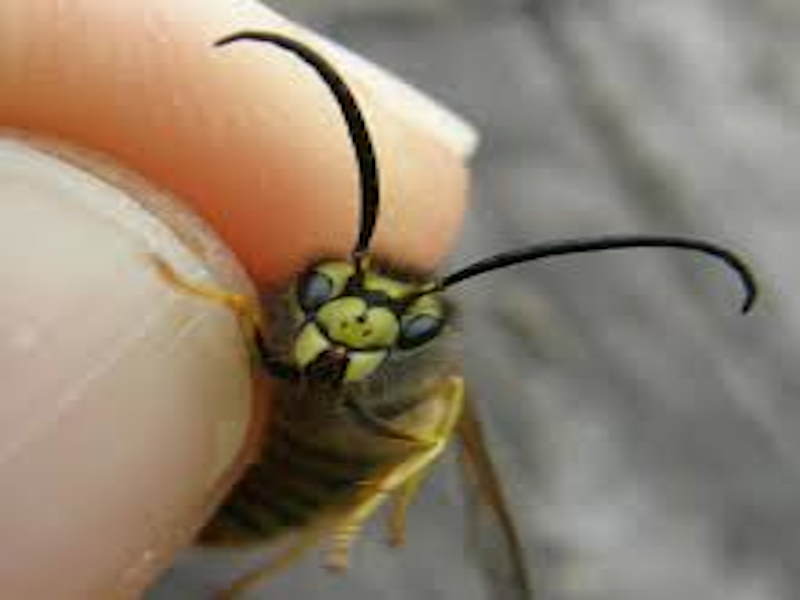chax: (164, 21, 727, 594)
